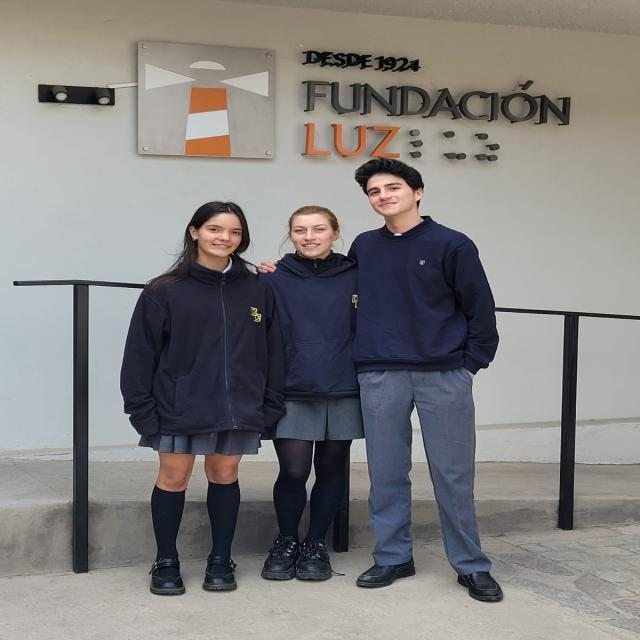person: (333, 145, 550, 608), (122, 195, 274, 603), (257, 198, 354, 588)
